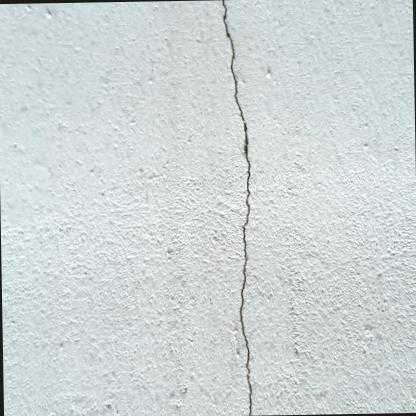crack: (222, 0, 252, 415)
